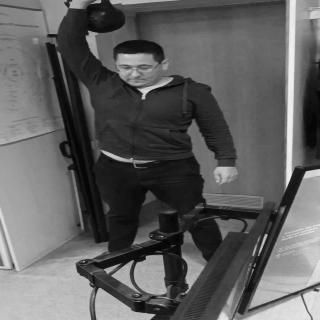kettlebell: (65, 1, 127, 37)
